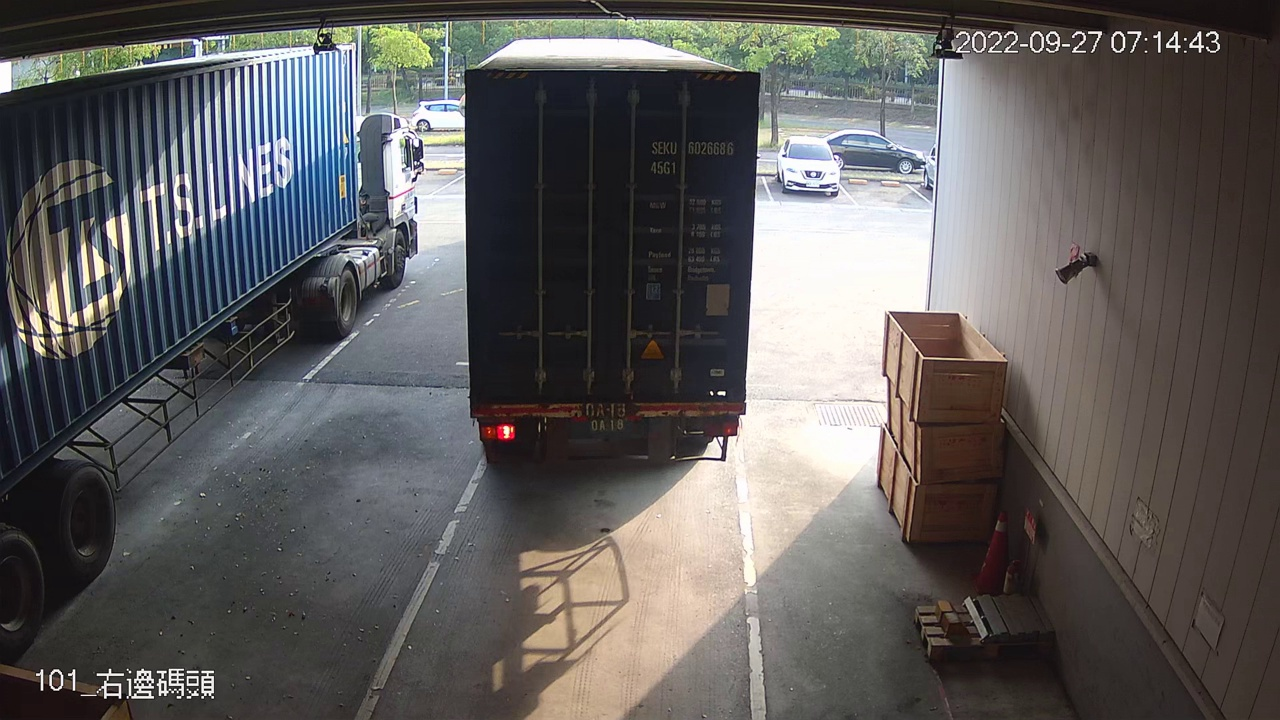container: (640, 135, 743, 180)
